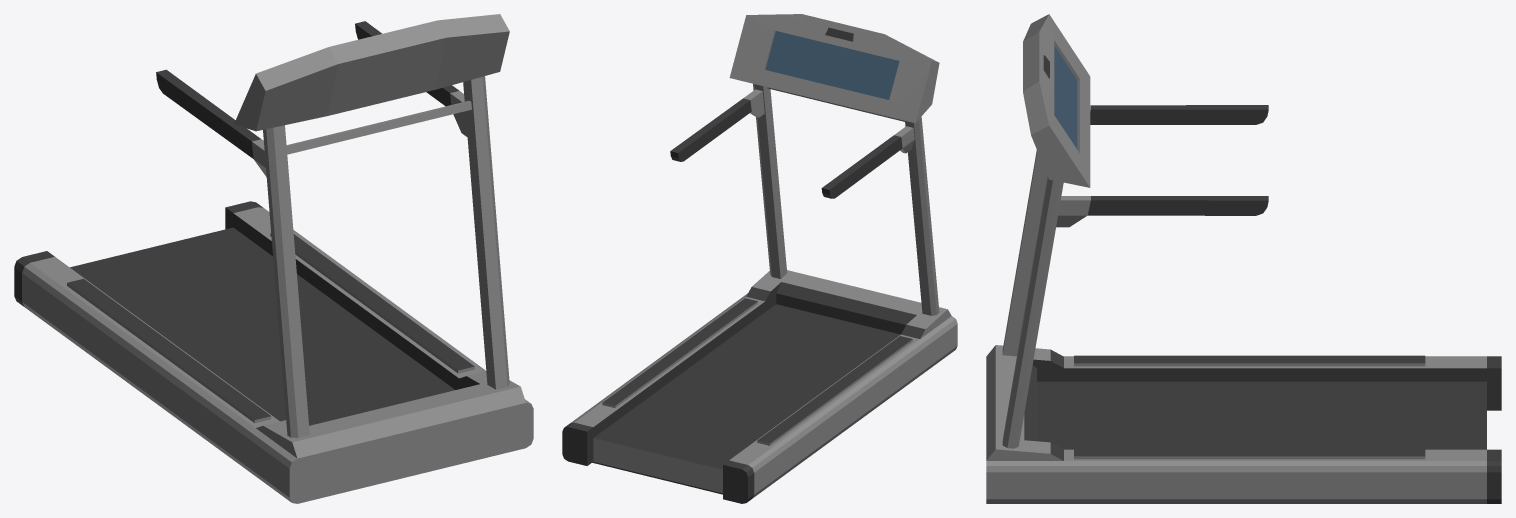
The model's file is treadmill_1.glb.
3 renders of one model, left to right at view 1: azimuth 30°, elevation 25°; view 2: azimuth 150°, elevation 25°; view 3: azimuth 270°, elevation 25°, orthographic. The views are drawn at different scales.
Parts seen in each view (by area): view 1: Treadmill_1_Main; view 2: Treadmill_1_Main; view 3: Treadmill_1_Main.
Part boxes in pixels (x1,y1,x2,y2): Treadmill_1_Main: [14, 14, 533, 503]; Treadmill_1_Main: [562, 14, 957, 503]; Treadmill_1_Main: [986, 14, 1501, 503].
Size of the model in its own units: 0.8778 by 1.47 by 1.71.
Materials: 1 (1 with a texture image).
